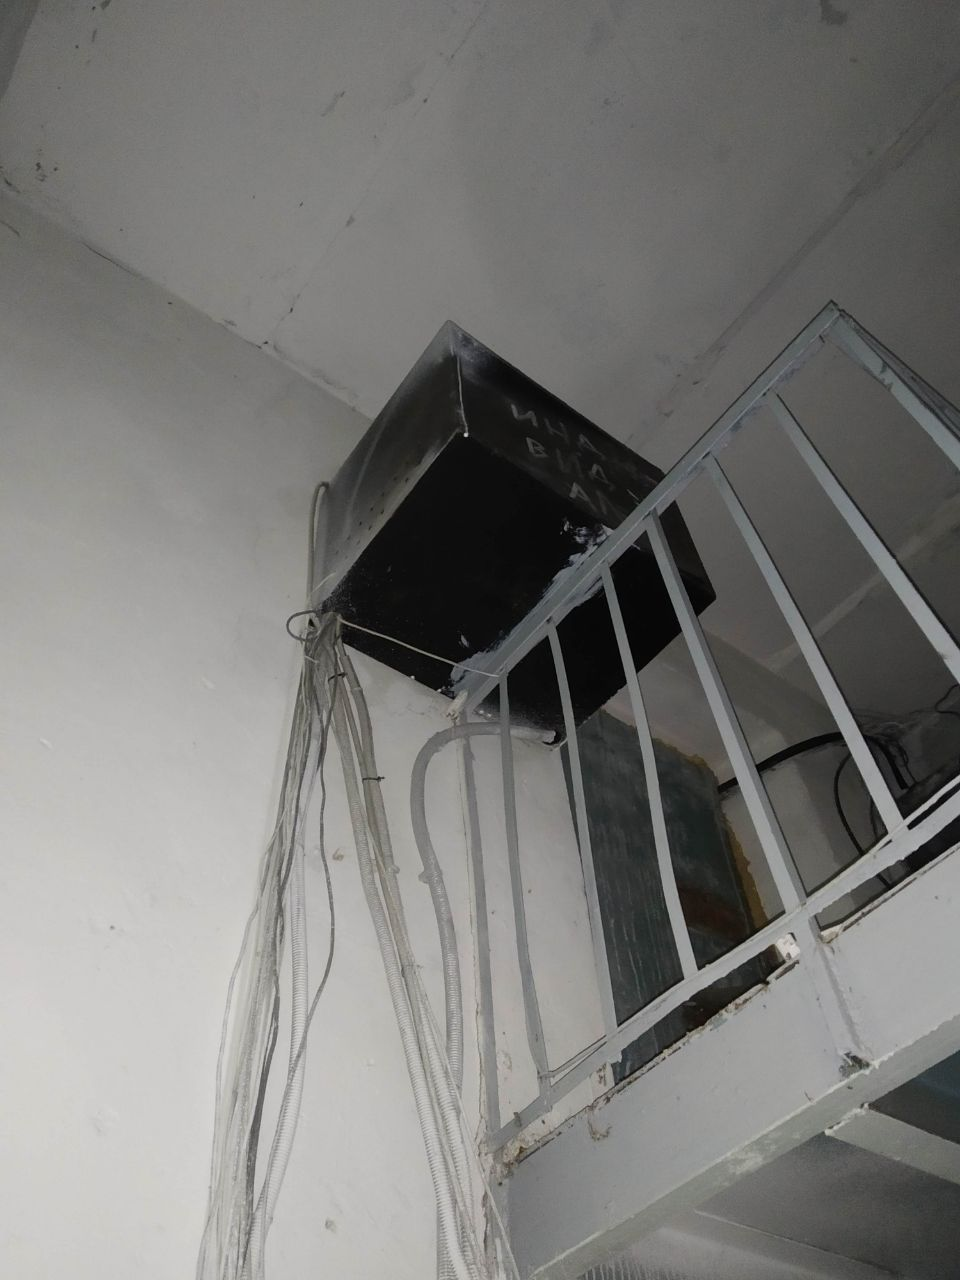shta-9m: (305, 313, 725, 759)
